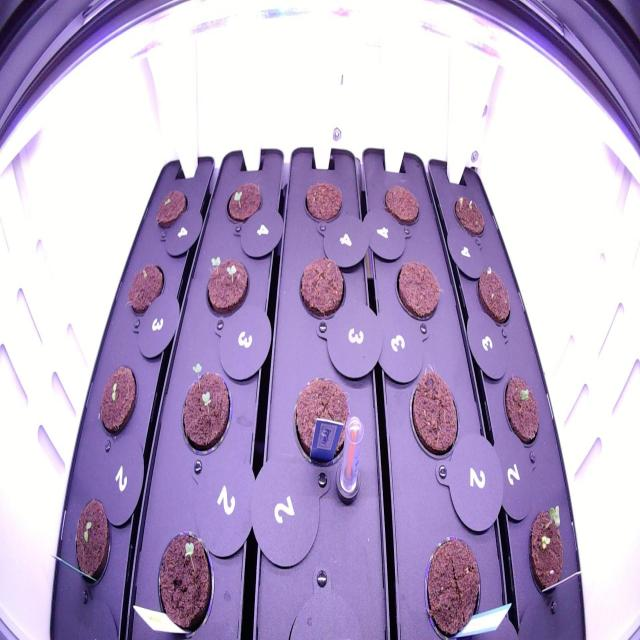germination: (146, 522, 219, 638), (168, 355, 235, 465), (522, 496, 573, 611), (66, 490, 118, 598), (196, 250, 253, 326), (93, 356, 141, 446), (498, 366, 546, 450), (122, 255, 168, 326), (473, 260, 516, 330), (222, 174, 267, 231), (150, 180, 191, 234), (448, 188, 488, 241)
pod: (284, 368, 357, 474), (400, 362, 466, 469), (422, 531, 488, 637), (290, 250, 350, 330), (389, 253, 447, 335), (298, 174, 346, 228), (378, 178, 424, 231)
